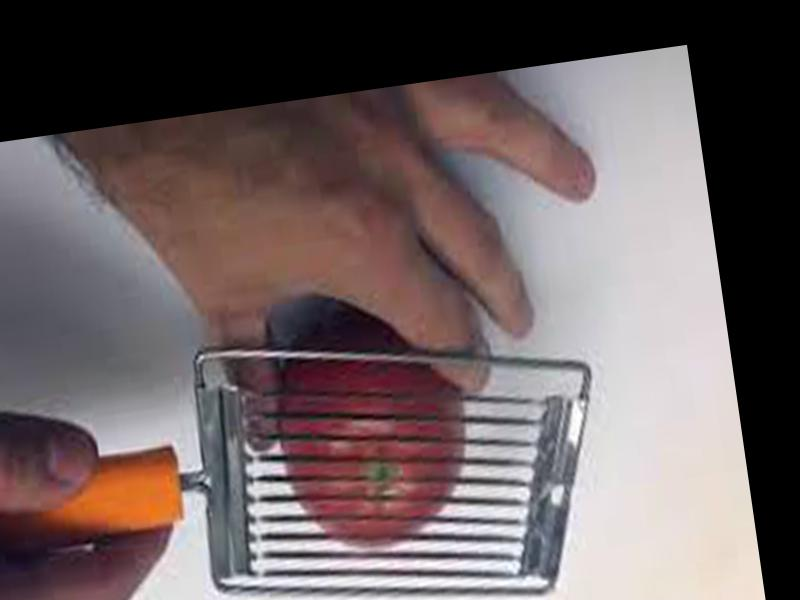Tomato: (261, 306, 475, 558)
